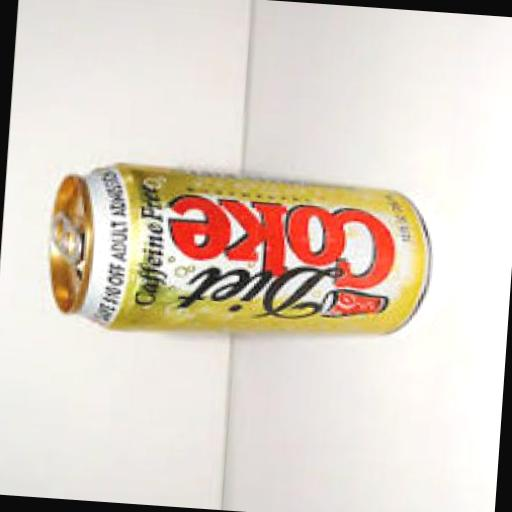metal: (40, 162, 435, 353)
